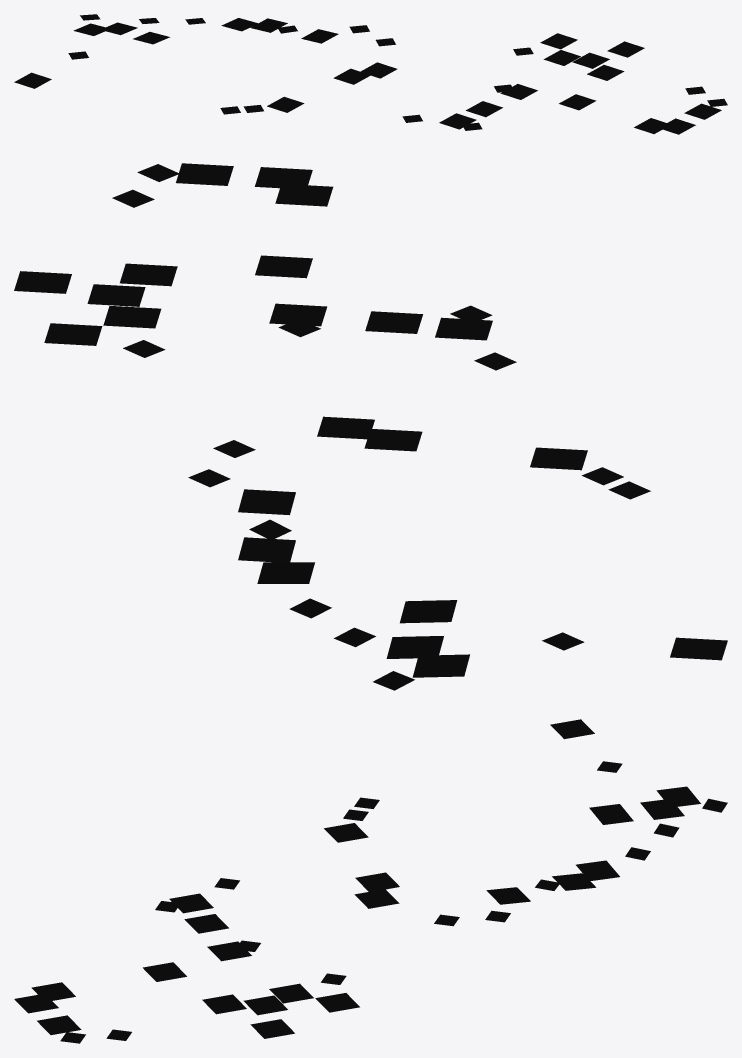
File: des_aroadbit12.obj
3 renders of one model, top to bottom at view 1: azimuth 30°, elevation 25°; view 2: azimuth 150°, elevation 25°; view 3: azimuth 270°, elevation 25°, orthographic. The views are drawn at different scales.
Visible parts, largest first — view 1: des_aroadbit12; view 2: des_aroadbit12; view 3: des_aroadbit12.
Part boxes in pixels (x1,y1,x2,y2): des_aroadbit12: [14, 14, 727, 134]; des_aroadbit12: [14, 163, 727, 690]; des_aroadbit12: [14, 719, 727, 1043].
Bounding box in the file's own units: 129 × 1.55 × 120.
1 material, 1 textured.
